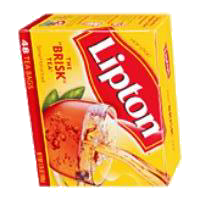grozi_83: (18, 12, 182, 188)
